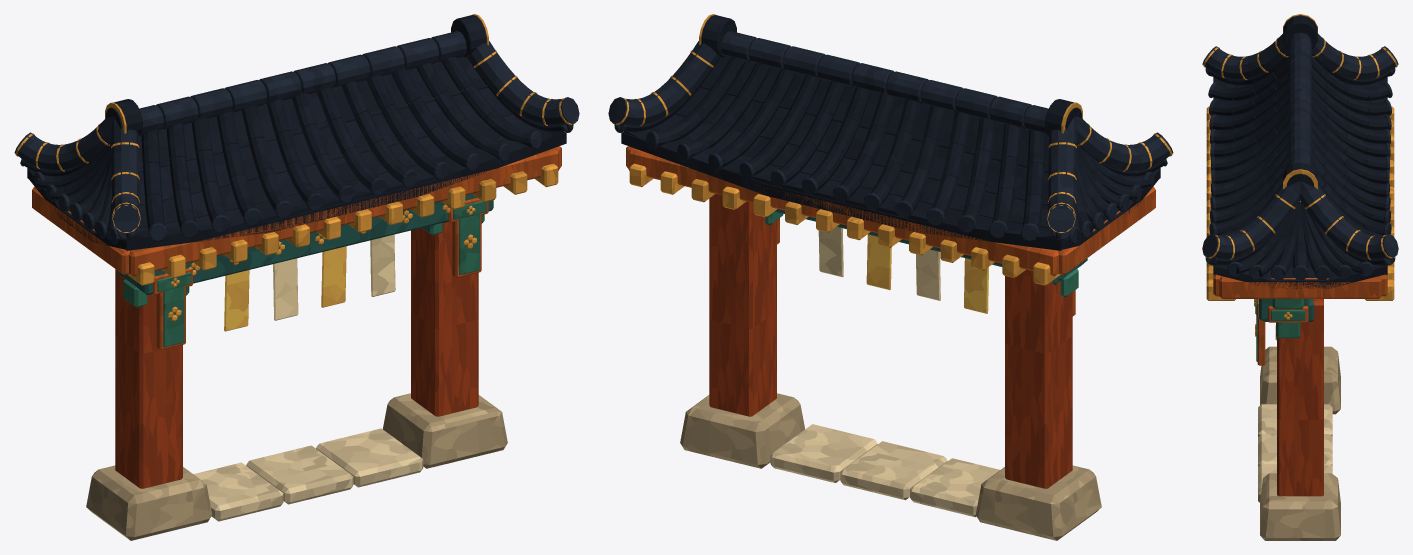
Rendered from Test_Cheon_Gate.fbx.
3 renders of one model, left to right at view 1: azimuth 30°, elevation 25°; view 2: azimuth 150°, elevation 25°; view 3: azimuth 270°, elevation 25°, orthographic. The views are drawn at different scales.
Visible parts, largest first — view 1: Gate_MainPost, Gate_MainPost.001, GateRoof_EaveFascia, Gate_StoneFooting, Gate_StoneFooting.001, GateRoof_Front_UnderRoof, Gate_CrossBeam, Gate_Threshold_2, Gate_Threshold_1, Gate_Threshold_0, GateRoof_Front_HipRoll_1, GateRoof_Front_HipRoll_-1 (+19 smaller); view 2: Gate_MainPost.001, Gate_MainPost, Gate_StoneFooting, GateRoof_EaveFascia.001, Gate_StoneFooting.001, GateRoof_Back_UnderRoof, Gate_Threshold_2, Gate_Threshold_1, GateRoof_Back_HipRoll_1, Gate_Threshold_0, GateRoof_Back_HipRoll_-1, GateRoof_Front_HipRoll_-1 (+15 smaller); view 3: Gate_MainPost.001, Gate_StoneFooting.001, GateRoof_SideFascia.001, GateRoof_Back_HipRoll_1, GateRoof_Front_HipRoll_1, Gate_StoneFooting, GateRoof_Back_HipRoll_-1, GateRoof_Front_HipRoll_-1, GateRoof_HipSide_1, Gate_Threshold_0, Gate_Threshold_1, GateRoof_RidgeEndCap (+88 smaller).
Part boxes in pixels (x1,y1,x2,y2): Gate_MainPost: (115,269,182,488); Gate_MainPost.001: (411,222,478,416); GateRoof_EaveFascia: (129,148,559,276); Gate_StoneFooting: (86,465,212,540); Gate_StoneFooting.001: (383,393,507,468); GateRoof_Front_UnderRoof: (126,89,566,250); Gate_CrossBeam: (119,194,493,294); Gate_Threshold_2: (316,428,423,487); Gate_Threshold_1: (246,445,353,504); Gate_Threshold_0: (193,462,283,521); GateRoof_Front_HipRoll_1: (463,36,579,125); GateRoof_Front_HipRoll_-1: (111,117,140,231); Gate_MainPost.001: (709,194,776,416); Gate_MainPost: (1005,269,1072,488); Gate_StoneFooting: (975,465,1101,540); GateRoof_EaveFascia.001: (628,148,1058,276); Gate_StoneFooting.001: (680,393,804,468); GateRoof_Back_UnderRoof: (621,89,1061,250); Gate_Threshold_2: (770,424,877,482); Gate_Threshold_1: (840,441,947,500); GateRoof_Back_HipRoll_1: (608,36,724,125); Gate_Threshold_0: (910,458,999,517); GateRoof_Back_HipRoll_-1: (1047,117,1076,231); GateRoof_Front_HipRoll_-1: (1074,116,1173,171); Gate_MainPost.001: (1277,299,1323,496); Gate_StoneFooting.001: (1260,473,1340,540); GateRoof_SideFascia.001: (1219,276,1381,298); GateRoof_Back_HipRoll_1: (1300,181,1398,259); GateRoof_Front_HipRoll_1: (1202,181,1300,259); Gate_StoneFooting: (1260,346,1340,414); GateRoof_Back_HipRoll_-1: (1307,33,1398,79); GateRoof_Front_HipRoll_-1: (1202,33,1293,79); GateRoof_HipSide_1: (1213,202,1387,288); Gate_Threshold_0: (1258,404,1332,436); Gate_Threshold_1: (1258,434,1332,466); GateRoof_RidgeEndCap: (1283,15,1317,48).
Size of the model in its own units: 4.59 by 3.97 by 1.92.
